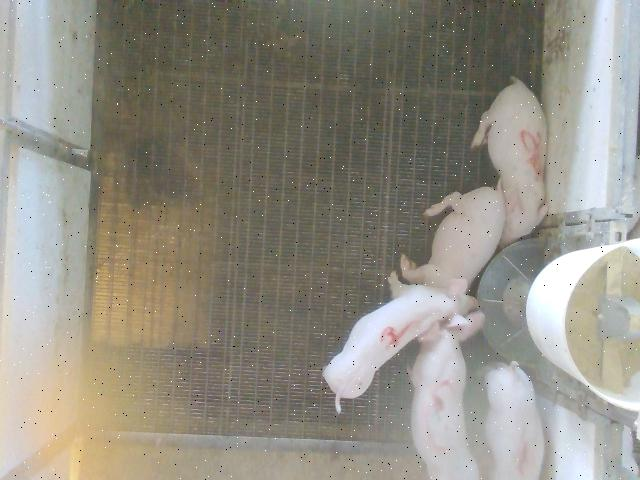pig-1: (485, 361, 544, 479)
pig-3: (411, 328, 479, 478)
pig-4: (324, 272, 476, 411)
pig-5: (471, 78, 548, 246)
